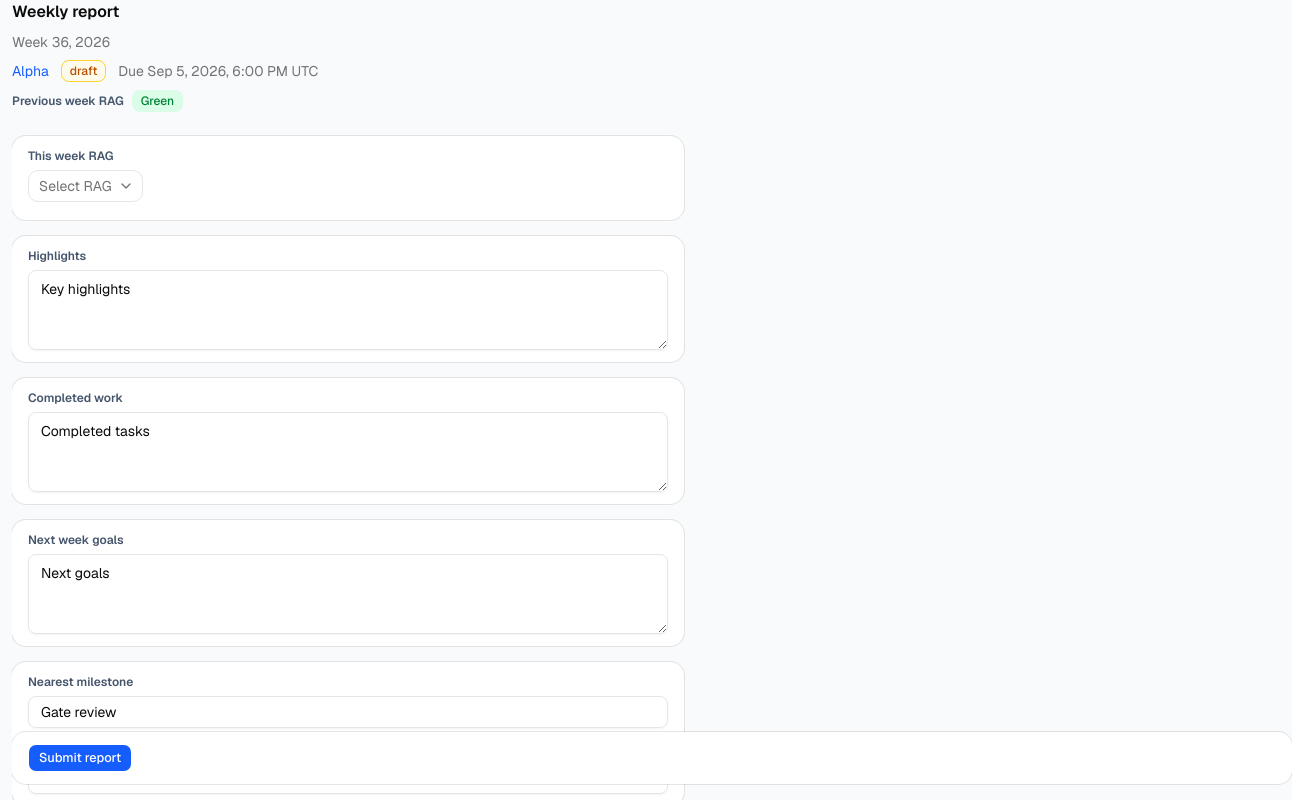
Test case: WeeklyReportEditorPage › submit and correct › shows inline raid_dependency error and validation toast on 400
This screenshot has width=1292, height=800.
Click the button "Submit report": click(80, 758) [28,744,132,772]
(page scrolled)
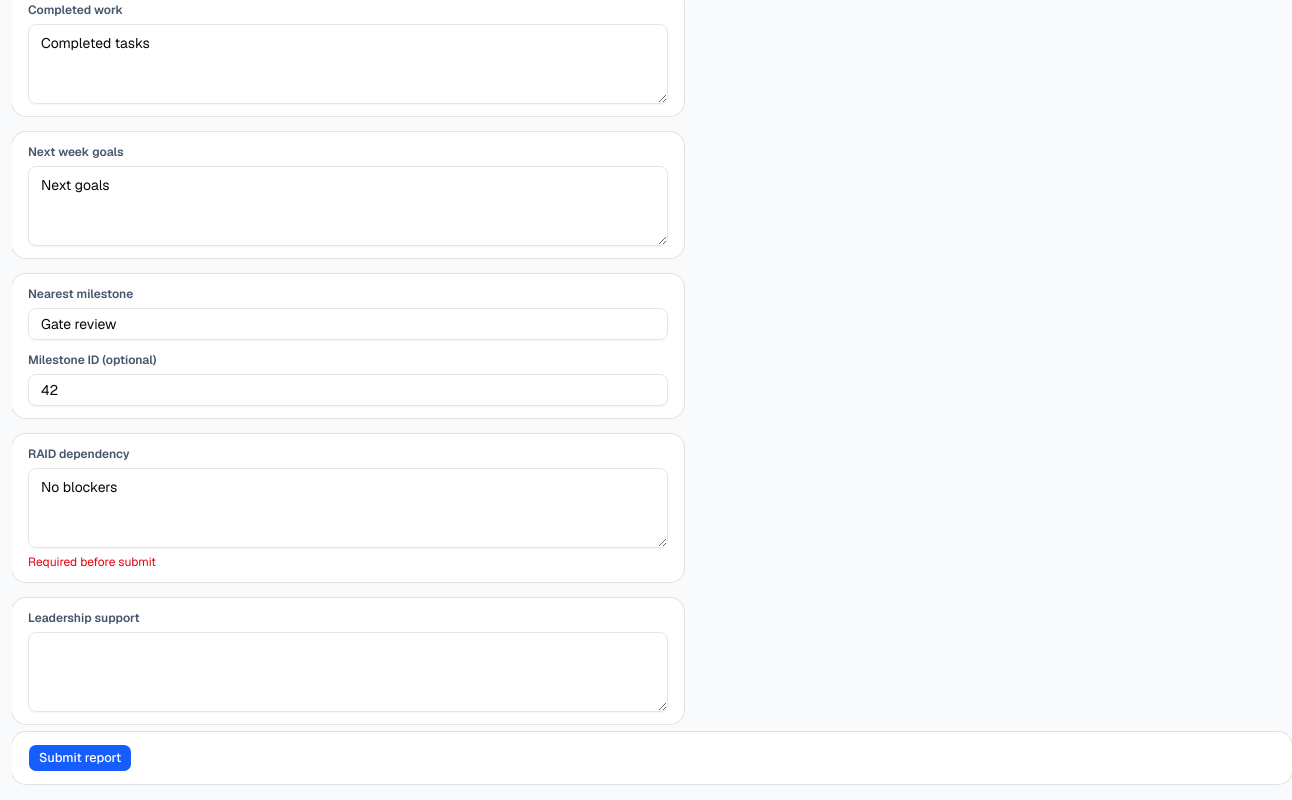
Check: the text "Required before submit" is shown, box [28,554,156,570]
